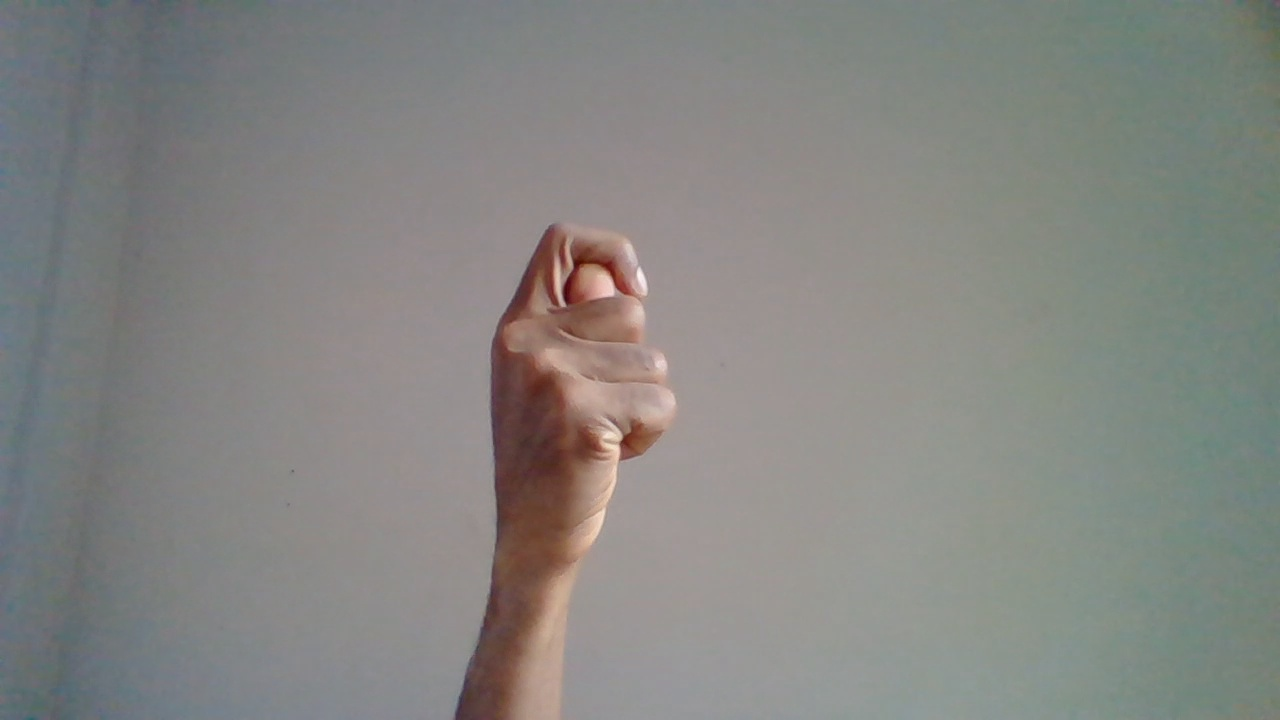che: (484, 222, 674, 705)
